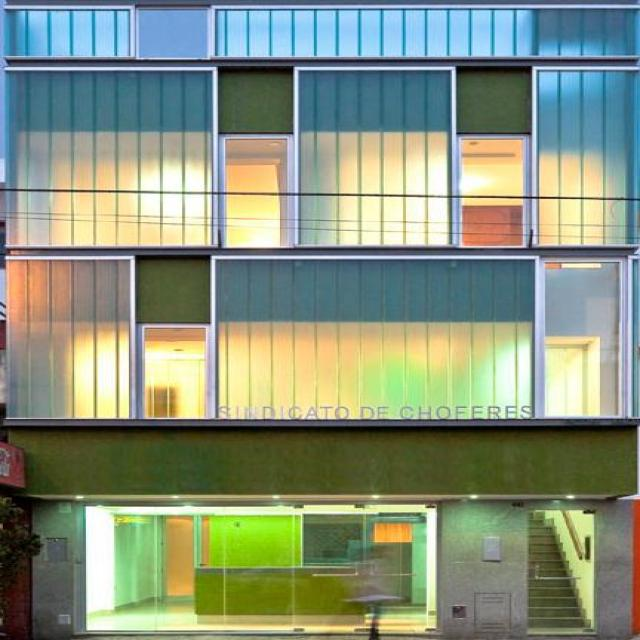door: (530, 511, 594, 635)
wall: (0, 0, 639, 638)
windows: (213, 256, 540, 422), (87, 508, 436, 634), (2, 71, 216, 242), (6, 5, 638, 60), (301, 66, 456, 244), (6, 257, 128, 418), (545, 70, 639, 246), (212, 136, 298, 248), (452, 133, 530, 244), (128, 325, 209, 418), (544, 336, 598, 418)
